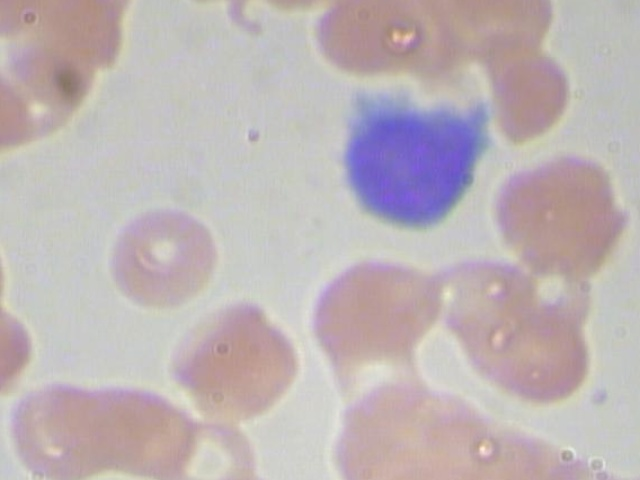RBC: (484, 147, 640, 279), (160, 293, 304, 420), (307, 243, 451, 370), (97, 201, 227, 310), (8, 381, 123, 480), (477, 48, 590, 143), (486, 307, 599, 402), (313, 0, 425, 90), (172, 413, 259, 480)
WBC: (324, 77, 522, 234)
